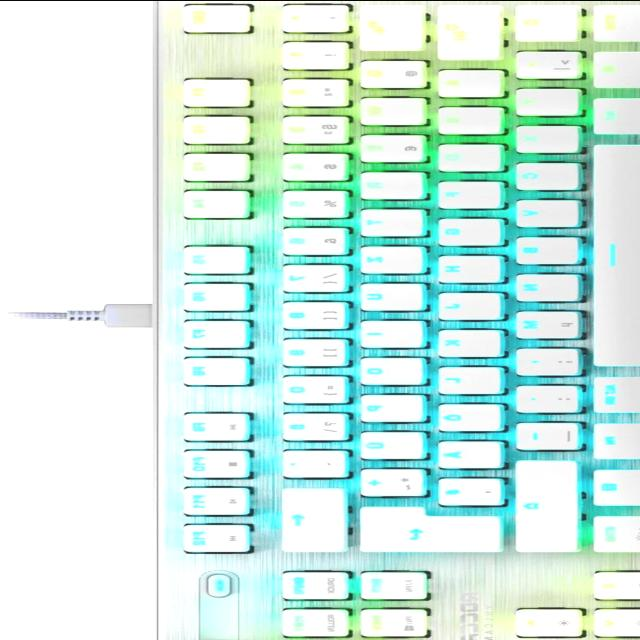0: (274, 372, 346, 402)
1: (275, 38, 346, 68)
2: (274, 75, 347, 106)
3: (274, 113, 348, 144)
4: (274, 150, 347, 180)
5: (275, 187, 348, 217)
6: (275, 224, 347, 254)
7: (275, 261, 346, 291)
8: (275, 298, 346, 328)
9: (275, 335, 346, 365)
a: (431, 67, 501, 96)
accent: (275, 446, 345, 476)
ae: (432, 437, 500, 467)
alt-left: (587, 94, 640, 132)
altgr-right: (587, 373, 640, 411)
b: (510, 234, 578, 264)
c: (509, 159, 577, 189)
caret: (275, 1, 346, 31)
comma: (510, 344, 578, 374)
d: (431, 141, 501, 169)
del: (274, 485, 344, 551)
e: (354, 131, 424, 161)
enter: (353, 503, 501, 552)
f: (432, 178, 499, 206)
g: (432, 215, 500, 244)
h: (432, 252, 500, 282)
hash: (432, 474, 500, 504)
i: (354, 318, 422, 346)
j: (432, 289, 500, 319)
k: (432, 326, 500, 356)
keyboard: (148, 0, 640, 640)
l: (432, 364, 500, 393)
less: (509, 47, 580, 77)
m: (509, 307, 579, 337)
minus: (510, 419, 578, 449)
n: (510, 271, 578, 300)
o: (354, 354, 422, 384)
oe: (432, 400, 500, 430)
p: (354, 392, 422, 420)
plus: (354, 465, 424, 495)
point: (510, 381, 577, 411)
q: (353, 57, 424, 87)
r: (354, 168, 422, 198)
s: (431, 103, 501, 133)
shift-left: (509, 2, 577, 40)
shift-lock: (430, 2, 498, 58)
shift-right: (509, 455, 577, 551)
space: (585, 140, 640, 367)
ss: (277, 410, 348, 440)
strg-left: (587, 1, 640, 39)
strg-right: (587, 512, 640, 552)
t: (355, 206, 423, 236)
tab: (353, 1, 420, 49)
u: (354, 280, 422, 310)
ue: (355, 428, 423, 458)
v: (509, 196, 577, 226)
w: (354, 94, 422, 124)
x: (510, 122, 578, 152)
y: (509, 85, 579, 115)
z: (354, 243, 422, 273)
